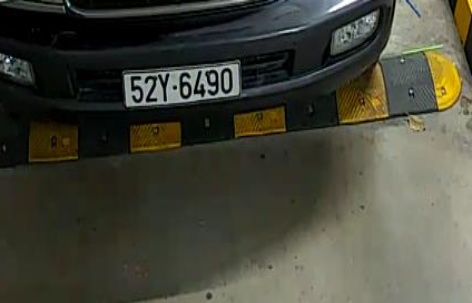plate: (114, 51, 245, 107)
